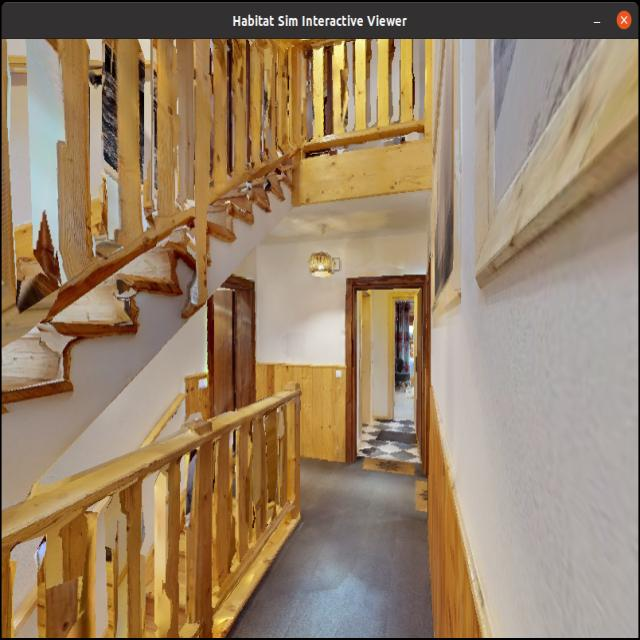door-frame: (349, 270, 440, 483)
stairs: (0, 25, 399, 358), (0, 393, 295, 639)
